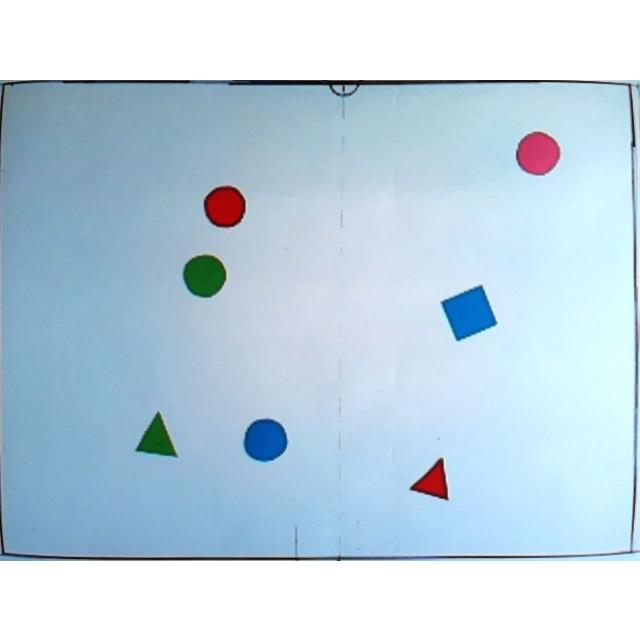blueCircle: (244, 414, 288, 462)
blueSquare: (440, 284, 498, 340)
greenCircle: (184, 254, 228, 298)
greenTriangle: (136, 408, 178, 458)
pinkCircle: (516, 130, 560, 174)
redCircle: (204, 184, 246, 226)
redTriangle: (408, 454, 452, 502)
